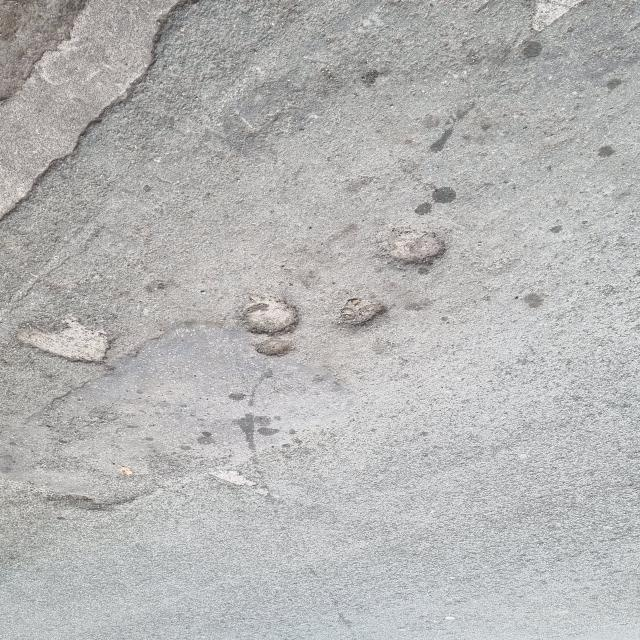pothole: (17, 296, 154, 384), (218, 266, 314, 382), (370, 210, 464, 294), (328, 282, 397, 365)
